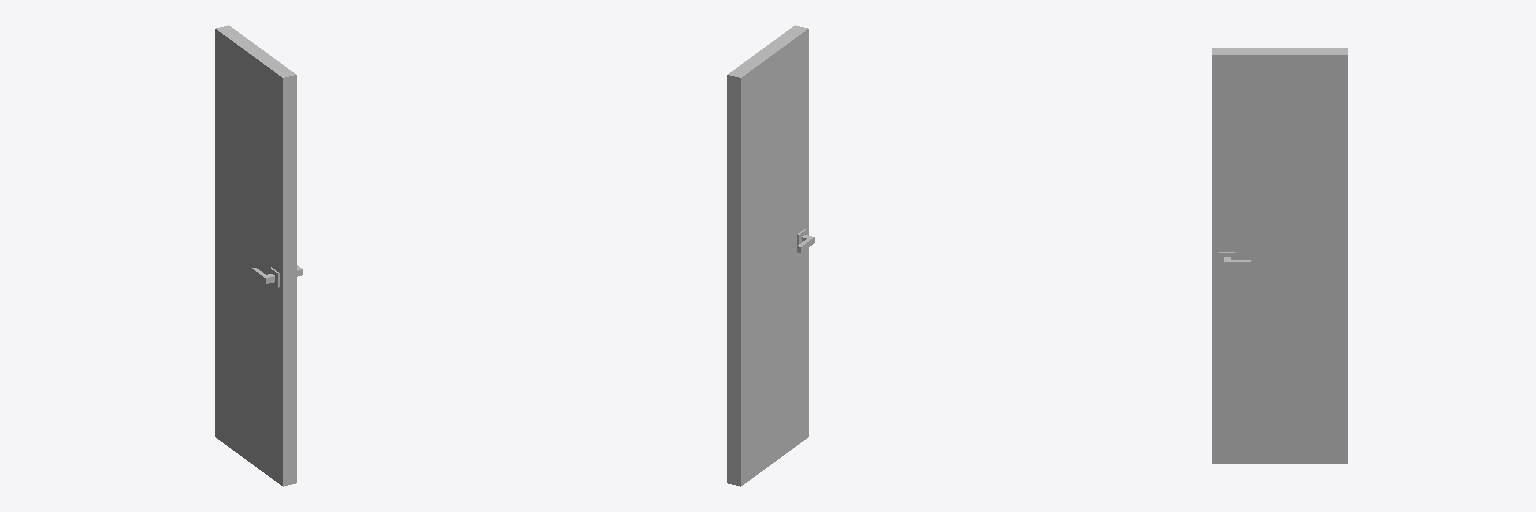
Rendered from door601_black.obj.
The picture shows the model from 3 angles: view 1: azimuth 30°, elevation 25°; view 2: azimuth 150°, elevation 25°; view 3: azimuth 270°, elevation 25°; orthographic projection.
Visible parts, largest first — view 1: Cube; view 2: Cube; view 3: Cube.
Boxes of the visible parts, x1=… form: Cube: x1=215, y1=25, x2=302, y2=486; Cube: x1=727, y1=25, x2=814, y2=486; Cube: x1=1212, y1=48, x2=1347, y2=463.
Size of the model in its own units: 0.1899 by 2 by 0.5999.